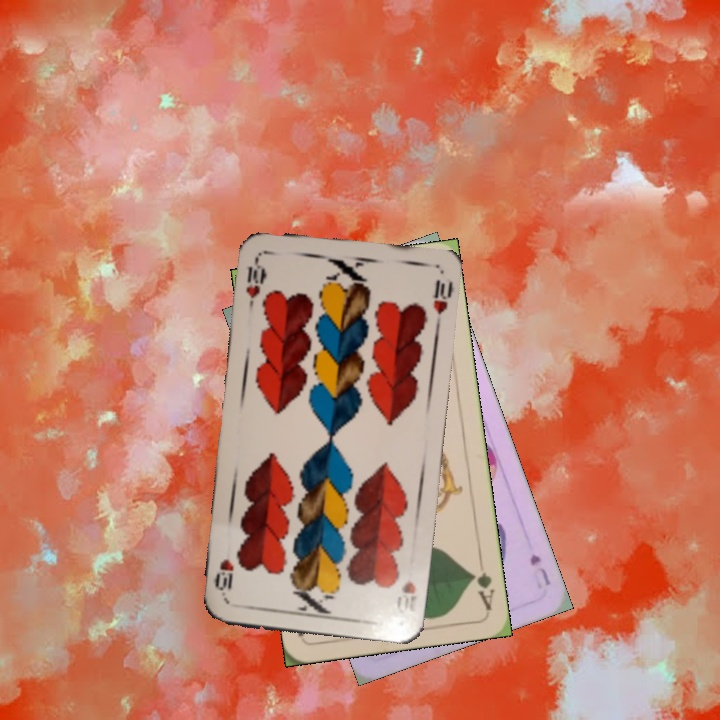GA: (468, 553, 497, 612)
H10: (242, 253, 268, 312), (393, 576, 419, 616)
SU: (526, 550, 554, 589)
